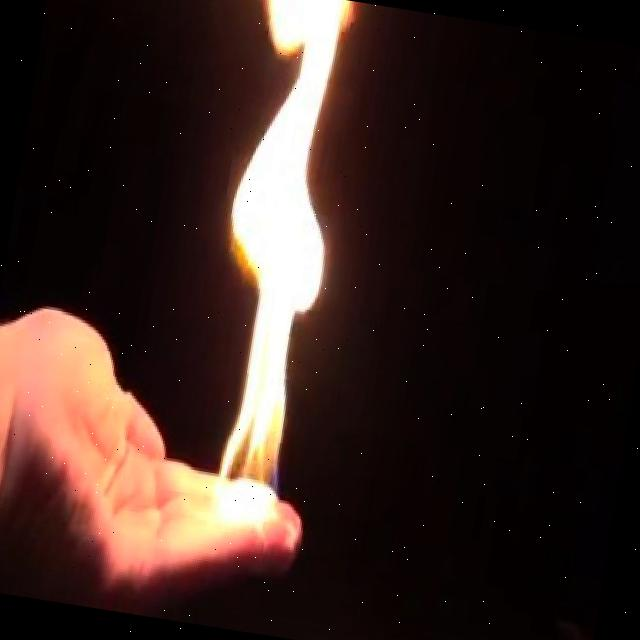fire: (169, 0, 366, 504)
